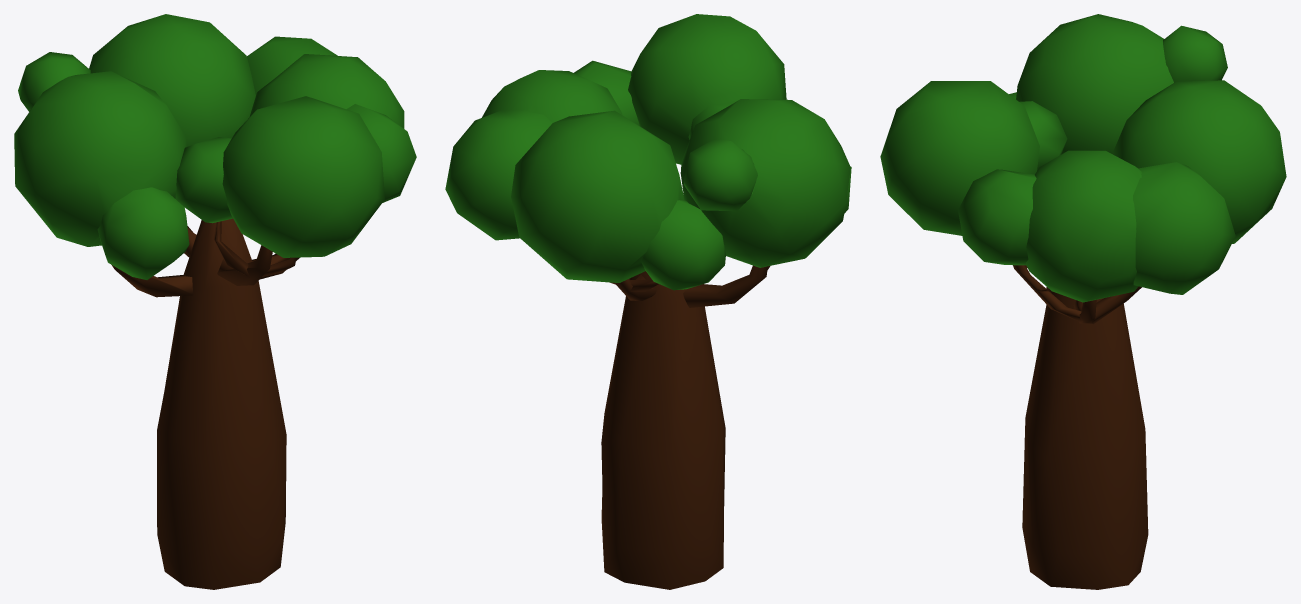
Rendered from tree_06.fbx.
3 renders of one model, left to right at view 1: azimuth 30°, elevation 25°; view 2: azimuth 150°, elevation 25°; view 3: azimuth 270°, elevation 25°, orthographic. The views are drawn at different scales.
Visible parts, largest first — view 1: tree_06; view 2: tree_06; view 3: tree_06.
Boxes of the visible parts, <box> form: tree_06: <box>14,14,416,589</box>; tree_06: <box>445,14,851,589</box>; tree_06: <box>880,14,1286,589</box>.
Size of the model in its own units: 3.41 by 3.39 by 4.53.
